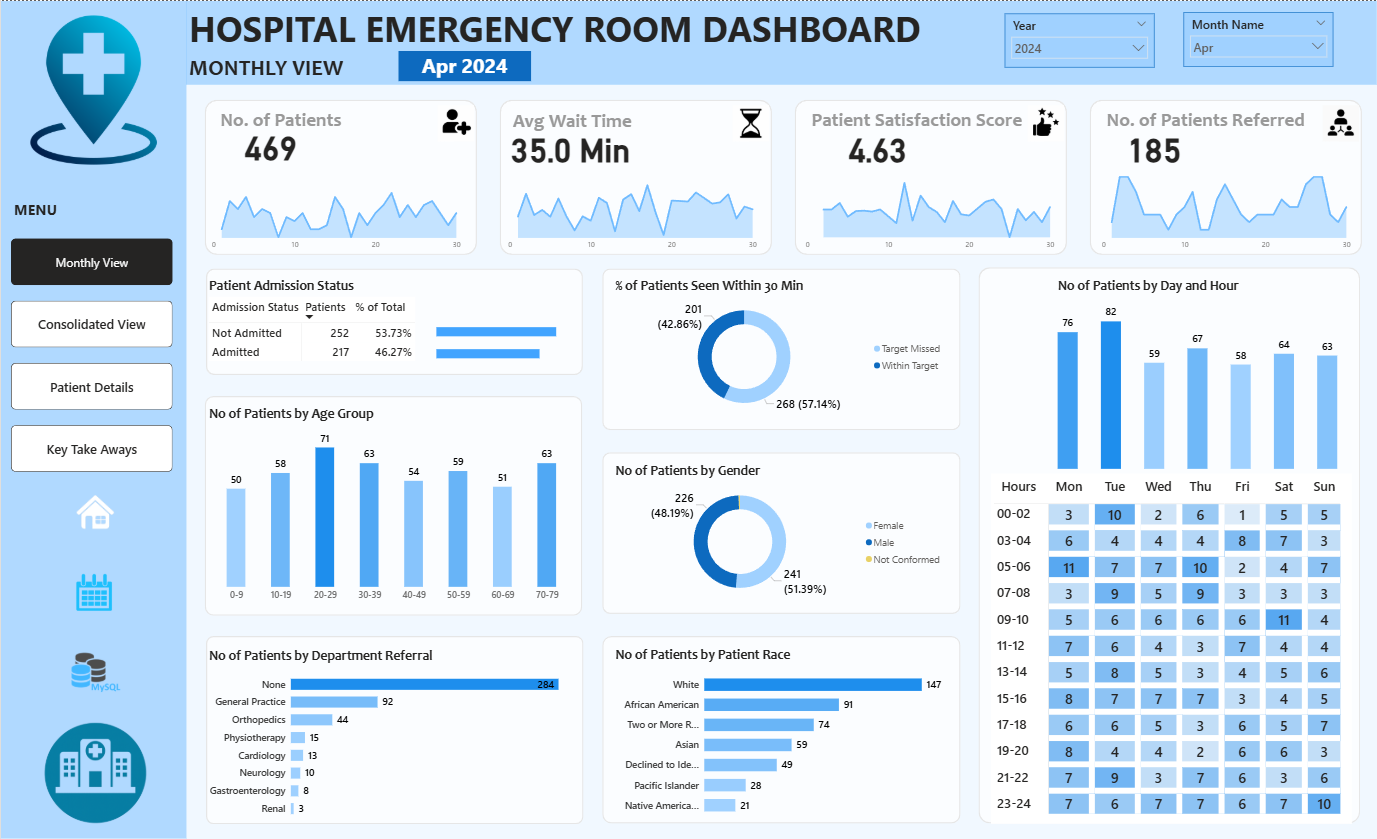

What the dashboard file says about the page in this screenshot:
{"tool":"powerbi","page":{"name":"Monthly View","canvas":[2300,1400],"ordinal":0},"visuals":[{"type":"shape","box":[0,0,310,1400],"z":0},{"type":"shape","box":[309.5,0,1990.5,140],"z":1000},{"type":"textbox","box":[310,0,1246.6,107.7],"z":2000},{"type":"textbox","box":[309.5,83.3,278.6,57.1],"z":3000},{"type":"shape","box":[340.5,165.5,455,259.5],"z":4000},{"type":"card","fields":{"Values":["Hospital ER_Data.No of Patients"]},"box":[397.6,202.4,107.1,76.2],"z":5000},{"type":"slicer","fields":{"Values":["Date Table.Year"]},"box":[1678.6,20.5,250,90],"z":6000},{"type":"slicer","fields":{"Values":["Date Table.Month Name"]},"box":[1976.1,19.5,250.8,90.8],"z":7000},{"type":"textbox","box":[361.9,173.8,226.2,57.1],"z":8000},{"type":"areaChart","fields":{"Category":["Date Table.Date.Variation.Date Hierarchy.Day"],"Y":["Hospital ER_Data.No of Patients"]},"box":[340.5,281,435.7,145.2],"z":9000},{"type":"card","fields":{"Values":["Min(Date Table.Month & Year)"]},"box":[664.3,83.3,221.4,50],"z":10000},{"type":"shape","box":[833.3,165.5,455,259.5],"z":11000},{"type":"card","fields":{"Values":["Hospital ER_Data.Avg Wait Time"]},"box":[846.8,204.8,211.9,76.2],"z":12000},{"type":"textbox","box":[850,174.8,226.2,57.1],"z":13000},{"type":"areaChart","fields":{"Category":["Date Table.Date.Variation.Date Hierarchy.Day"],"Y":["Avg(Hospital ER_Data.Patient Waittime)"]},"box":[836.5,281,435.7,145.2],"z":14000},{"type":"shape","box":[1326.2,165.5,455,259.5],"z":15000},{"type":"card","fields":{"Values":["Hospital ER_Data.Satisfaction Score"]},"box":[1400.8,204.8,131,76.2],"z":16000},{"type":"textbox","box":[1350,173.8,411.9,57.1],"z":17000},{"type":"areaChart","fields":{"Category":["Date Table.Date.Variation.Date Hierarchy.Day"],"Y":["Hospital ER_Data.Satisfaction Score"]},"box":[1332.5,281,435.7,145.2],"z":18000},{"type":"shape","box":[1819,165.5,455,259.5],"z":19000},{"type":"card","fields":{"Values":["Hospital ER_Data.No of Patients Referred"]},"box":[1847.6,204.8,161.9,76.2],"z":20000},{"type":"textbox","box":[1842.9,173.8,385.7,57.1],"z":21000},{"type":"areaChart","fields":{"Category":["Date Table.Date.Variation.Date Hierarchy.Day"],"Y":["Hospital ER_Data.No of Patients Referred"]},"box":[1828.6,281,435.7,145.2],"z":22000},{"type":"shape","box":[343,446.3,630,178.1],"z":23000},{"type":"pivotTable","title":"Patient Admission Status","fields":{"Values":["Hospital ER_Data.No of Patients1","Hospital ER_Data.No of Patients"],"Rows":["Hospital ER_Data.Admission Status"]},"box":[343,461.7,622.2,162.7],"z":24000},{"type":"barChart","fields":{"Category":["Hospital ER_Data.Admission Status"],"Y":["Hospital ER_Data.No of Patients"]},"box":[723.3,514.4,248.4,109.9],"z":25000},{"type":"shape","box":[340.8,659.6,631,367.2],"z":26000},{"type":"clusteredColumnChart","fields":{"Category":["Hospital ER_Data.Age Group"],"Y":["Hospital ER_Data.No of Patients"]},"box":[343,674.9,622.2,338.6],"z":27000},{"type":"shape","box":[343,1061.9,631,314.4],"z":28000},{"type":"clusteredBarChart","fields":{"Category":["Hospital ER_Data.Department Referral"],"Y":["Hospital ER_Data.No of Patients"]},"box":[343,1079.5,628.8,296.8],"z":29000},{"type":"shape","box":[1004.3,447.5,598.9,270.3],"z":30000},{"type":"donutChart","title":"% of Patients Seen Within 30 Min","fields":{"Category":["Hospital ER_Data.Waittime Status"],"Y":["Hospital ER_Data.No of Patients"]},"box":[1022.7,462.7,562.1,237.8],"z":31000},{"type":"shape","box":[1005.4,754.6,598.9,270.3],"z":32000},{"type":"donutChart","title":"No of Patients by Gender","fields":{"Y":["Hospital ER_Data.No of Patients"],"Category":["Hospital ER_Data.Patient Gender"]},"box":[1022.7,770.8,562.1,237.8],"z":33000},{"type":"shape","box":[1005.4,1061.6,598.9,313.5],"z":34000},{"type":"clusteredBarChart","fields":{"Y":["Hospital ER_Data.No of Patients"],"Category":["Hospital ER_Data.Patient Race"]},"box":[1022.7,1078.9,562.1,296.2],"z":35000},{"type":"shape","box":[1634.5,445.4,637.8,929.7],"z":36000},{"type":"pivotTable","fields":{"Rows":["Hospital ER_Data.Waittime Interval"],"Columns":["Date Table.Day Name"],"Values":["Hospital ER_Data.No of Patients"]},"box":[1654,789.2,603.2,585.9],"z":37000},{"type":"columnChart","title":"No of Patients by Day and Hour","fields":{"Category":["Date Table.Day Name"],"Y":["Hospital ER_Data.No of Patients"]},"box":[1762.1,462.7,480,326.5],"z":38000},{"type":"image","box":[0,19.8,310,260],"z":39000},{"type":"image","box":[1710.4,169.3,70.4,70.4],"z":40000},{"type":"image","box":[2205.1,169.3,70.4,70.4],"z":41000},{"type":"image","box":[725.5,169.3,70.4,70.4],"z":42000},{"type":"image","box":[1218,169.3,70.4,70.4],"z":43000},{"type":"image","box":[83.5,809,145.1,101.1],"z":44000},{"type":"pageNavigator","box":[17.6,397.9,270.4,391.3],"z":45000},{"type":"image","box":[76.9,919,156.1,142.9],"z":46000},{"type":"image","box":[107.7,1081.7,98.9,79.1],"z":47000},{"type":"actionButton","box":[105.5,811.2,98.9,79.1],"z":48000},{"type":"actionButton","box":[105.5,946.8,98.9,79.1],"z":49000},{"type":"actionButton","box":[105.5,1081.7,98.9,79.1],"z":50000},{"type":"image","box":[52.8,1182.8,211.1,217.7],"z":51000},{"type":"textbox","box":[17.5,327.5,107.5,50],"z":52000}]}

Visuals, with their boxes in screenshot pixels (x1, y1, x2, y2), scaled from the page's 2300x1400 canvas onto the 1377x839 screenshot:
shape: [x1=0, y1=0, x2=186, y2=838]
shape: [x1=185, y1=0, x2=1376, y2=84]
textbox: [x1=186, y1=0, x2=932, y2=65]
textbox: [x1=185, y1=50, x2=352, y2=84]
shape: [x1=204, y1=99, x2=476, y2=255]
card - Hospital ER_Data.No of Patients: [x1=238, y1=121, x2=302, y2=167]
slicer - Date Table.Year: [x1=1005, y1=12, x2=1155, y2=66]
slicer - Date Table.Month Name: [x1=1183, y1=12, x2=1333, y2=66]
textbox: [x1=217, y1=104, x2=352, y2=138]
areaChart - Date Table.Date.Variation.Date Hierarchy.Day x Hospital ER_Data.No of Patients: [x1=204, y1=168, x2=465, y2=255]
card - Min(Date Table.Month & Year): [x1=398, y1=50, x2=530, y2=80]
shape: [x1=499, y1=99, x2=771, y2=255]
card - Hospital ER_Data.Avg Wait Time: [x1=507, y1=123, x2=634, y2=168]
textbox: [x1=509, y1=105, x2=644, y2=139]
areaChart - Date Table.Date.Variation.Date Hierarchy.Day x Avg(Hospital ER_Data.Patient Waittime): [x1=501, y1=168, x2=762, y2=255]
shape: [x1=794, y1=99, x2=1066, y2=255]
card - Hospital ER_Data.Satisfaction Score: [x1=839, y1=123, x2=917, y2=168]
textbox: [x1=808, y1=104, x2=1055, y2=138]
areaChart - Date Table.Date.Variation.Date Hierarchy.Day x Hospital ER_Data.Satisfaction Score: [x1=798, y1=168, x2=1059, y2=255]
shape: [x1=1089, y1=99, x2=1361, y2=255]
card - Hospital ER_Data.No of Patients Referred: [x1=1106, y1=123, x2=1203, y2=168]
textbox: [x1=1103, y1=104, x2=1334, y2=138]
areaChart - Date Table.Date.Variation.Date Hierarchy.Day x Hospital ER_Data.No of Patients Referred: [x1=1095, y1=168, x2=1356, y2=255]
shape: [x1=205, y1=267, x2=583, y2=374]
"Patient Admission Status" pivotTable: [x1=205, y1=277, x2=578, y2=374]
barChart - Hospital ER_Data.Admission Status x Hospital ER_Data.No of Patients: [x1=433, y1=308, x2=582, y2=374]
shape: [x1=204, y1=395, x2=582, y2=615]
clusteredColumnChart - Hospital ER_Data.Age Group x Hospital ER_Data.No of Patients: [x1=205, y1=404, x2=578, y2=607]
shape: [x1=205, y1=636, x2=583, y2=825]
clusteredBarChart - Hospital ER_Data.Department Referral x Hospital ER_Data.No of Patients: [x1=205, y1=647, x2=582, y2=825]
shape: [x1=601, y1=268, x2=960, y2=430]
"% of Patients Seen Within 30 Min" donutChart: [x1=612, y1=277, x2=949, y2=420]
shape: [x1=602, y1=452, x2=960, y2=614]
"No of Patients by Gender" donutChart: [x1=612, y1=462, x2=949, y2=604]
shape: [x1=602, y1=636, x2=960, y2=824]
clusteredBarChart - Hospital ER_Data.No of Patients x Hospital ER_Data.Patient Race: [x1=612, y1=647, x2=949, y2=824]
shape: [x1=979, y1=267, x2=1360, y2=824]
pivotTable - Hospital ER_Data.Waittime Interval x Date Table.Day Name: [x1=990, y1=473, x2=1351, y2=824]
"No of Patients by Day and Hour" columnChart: [x1=1055, y1=277, x2=1342, y2=473]
image: [x1=0, y1=12, x2=186, y2=168]
image: [x1=1024, y1=101, x2=1066, y2=144]
image: [x1=1320, y1=101, x2=1362, y2=144]
image: [x1=434, y1=101, x2=477, y2=144]
image: [x1=729, y1=101, x2=771, y2=144]
image: [x1=50, y1=485, x2=137, y2=545]
pageNavigator: [x1=11, y1=238, x2=172, y2=473]
image: [x1=46, y1=551, x2=139, y2=636]
image: [x1=64, y1=648, x2=124, y2=696]
actionButton: [x1=63, y1=486, x2=122, y2=534]
actionButton: [x1=63, y1=567, x2=122, y2=615]
actionButton: [x1=63, y1=648, x2=122, y2=696]
image: [x1=32, y1=709, x2=158, y2=838]
textbox: [x1=10, y1=196, x2=75, y2=226]
